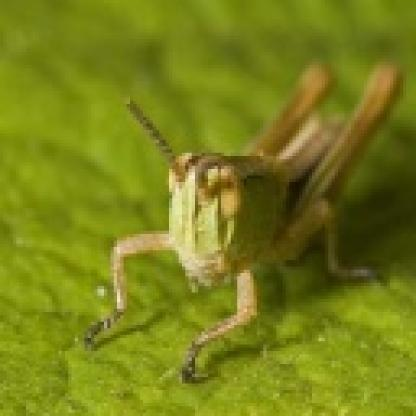grasshopper: (94, 61, 416, 376)
